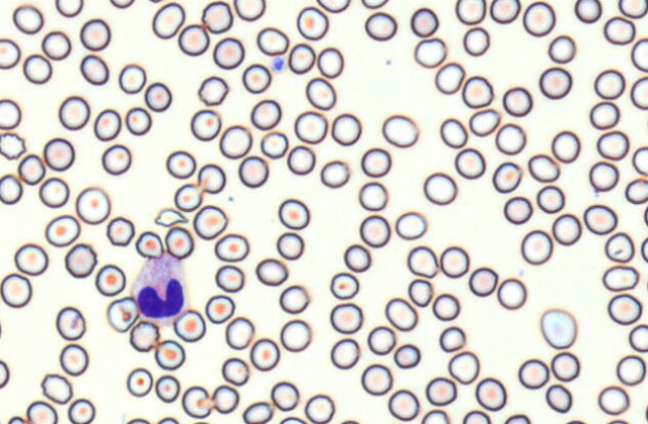GRAN: (134, 251, 190, 325)
PLT: (269, 56, 288, 74)
RBC: (540, 308, 577, 349), (75, 186, 110, 224), (151, 1, 185, 39), (193, 204, 227, 239), (106, 296, 139, 332), (64, 242, 97, 278), (44, 214, 80, 247), (382, 114, 418, 147), (522, 1, 555, 36), (219, 124, 252, 159), (0, 272, 32, 308), (14, 242, 48, 275), (384, 297, 417, 331), (423, 172, 457, 205), (294, 110, 327, 144), (607, 293, 642, 325), (520, 229, 552, 264), (58, 95, 90, 130), (539, 66, 572, 99), (447, 350, 479, 384), (43, 137, 75, 171), (296, 6, 328, 40), (173, 309, 205, 342), (177, 23, 209, 56), (461, 75, 493, 108), (279, 319, 311, 352), (201, 0, 233, 33), (79, 18, 111, 51), (475, 377, 506, 411), (55, 306, 86, 340), (329, 302, 363, 333), (583, 204, 617, 235), (406, 245, 438, 277), (212, 37, 244, 69), (95, 263, 126, 296), (181, 385, 212, 418), (434, 61, 465, 94), (305, 77, 336, 110), (359, 214, 390, 247), (190, 108, 221, 141), (249, 337, 279, 371), (214, 233, 249, 262), (40, 373, 72, 404), (387, 389, 419, 420), (361, 363, 392, 395), (414, 37, 446, 68), (38, 176, 69, 208), (495, 122, 526, 154), (454, 147, 485, 179), (588, 160, 619, 192), (593, 68, 625, 99), (238, 155, 268, 188), (364, 11, 397, 41), (439, 245, 469, 278), (256, 26, 289, 56), (331, 112, 361, 145), (596, 130, 629, 160), (602, 264, 638, 291), (154, 339, 185, 370), (518, 358, 549, 389), (278, 198, 309, 229), (250, 99, 281, 130), (129, 320, 159, 352), (101, 143, 131, 175), (597, 385, 629, 415), (492, 161, 522, 193), (330, 337, 360, 369), (603, 15, 635, 45), (551, 213, 581, 245), (164, 226, 193, 259), (59, 343, 88, 376), (225, 316, 254, 349), (255, 257, 288, 286), (527, 153, 560, 182), (551, 130, 580, 163), (425, 376, 456, 406), (12, 4, 43, 34), (22, 53, 52, 84), (79, 54, 109, 85), (197, 75, 228, 105), (360, 147, 391, 177), (604, 231, 634, 262), (497, 277, 526, 309), (616, 354, 645, 386), (395, 211, 427, 240), (93, 108, 121, 141), (304, 393, 334, 423), (41, 30, 71, 60), (358, 181, 388, 211), (468, 266, 498, 296), (502, 86, 532, 116), (286, 144, 315, 175), (165, 150, 196, 179), (589, 100, 620, 129), (17, 153, 45, 185), (316, 46, 344, 78), (468, 108, 500, 136), (205, 294, 235, 323), (270, 381, 299, 411), (367, 325, 396, 355), (279, 284, 309, 313), (550, 351, 579, 381), (242, 63, 271, 93), (439, 117, 467, 148), (118, 63, 146, 94), (288, 42, 315, 74), (320, 159, 349, 188), (547, 34, 576, 63), (197, 163, 225, 193), (106, 216, 134, 246), (462, 26, 490, 56), (329, 271, 359, 299), (410, 7, 438, 37), (144, 81, 171, 112), (173, 183, 202, 211), (221, 357, 249, 386), (215, 264, 244, 292), (343, 243, 371, 272), (276, 231, 304, 260), (536, 184, 564, 213), (260, 130, 288, 159), (503, 196, 532, 224), (212, 384, 239, 414), (126, 367, 153, 397), (545, 383, 572, 413), (432, 293, 460, 321), (135, 231, 163, 258), (125, 106, 151, 135), (0, 131, 26, 159), (407, 278, 433, 306), (155, 374, 180, 403), (455, 0, 485, 24), (26, 400, 57, 423), (489, 0, 520, 23), (67, 398, 95, 423), (0, 173, 22, 204), (242, 401, 273, 423), (439, 326, 465, 352), (393, 343, 420, 368), (233, 0, 265, 21), (0, 98, 21, 129), (574, 0, 602, 23), (0, 37, 20, 69), (625, 177, 647, 204), (630, 76, 647, 109), (631, 37, 647, 72), (628, 323, 647, 352), (618, 0, 647, 18), (55, 0, 83, 17), (632, 146, 647, 176), (316, 0, 350, 13), (421, 409, 449, 423), (462, 409, 490, 423), (503, 413, 530, 423), (0, 359, 9, 388), (361, 0, 388, 9), (109, 0, 134, 8), (279, 416, 306, 423), (640, 236, 647, 262), (157, 416, 179, 423), (125, 417, 150, 423), (7, 415, 25, 423), (606, 418, 629, 423), (643, 204, 648, 226), (340, 419, 360, 424), (564, 419, 586, 423), (644, 403, 648, 422), (192, 420, 209, 424), (148, 0, 163, 3)
Schistocyte: (154, 208, 188, 227)
